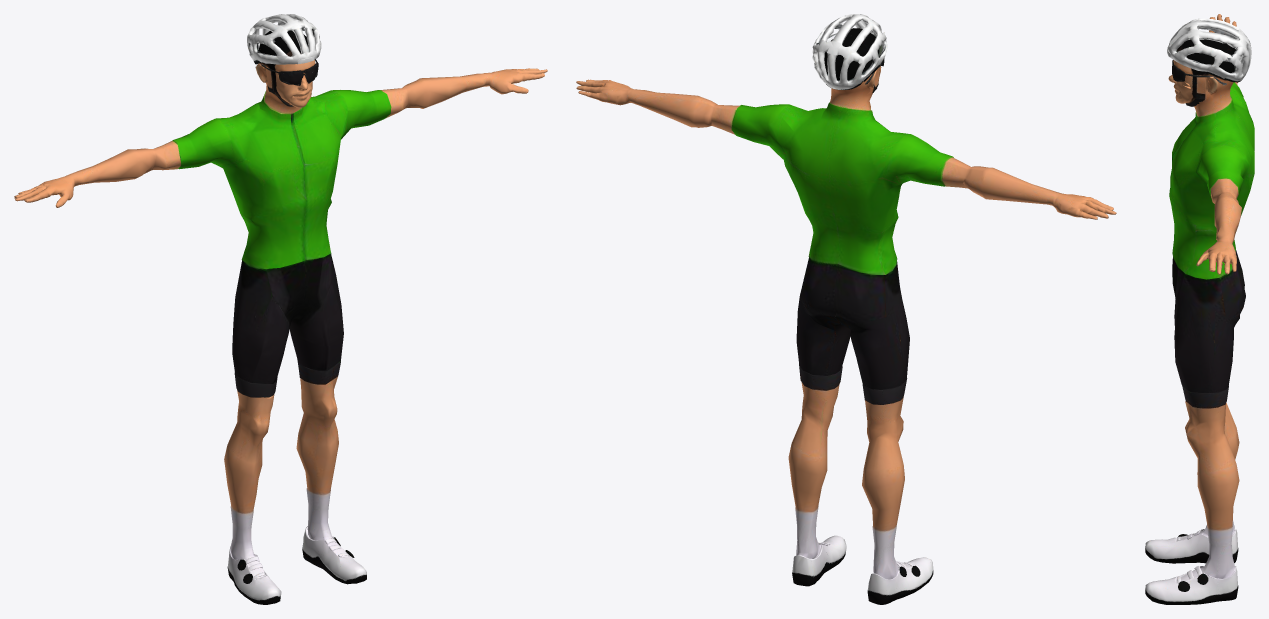
Rendered from cyclist.glb.
3 renders of one model, left to right at view 1: azimuth 30°, elevation 25°; view 2: azimuth 150°, elevation 25°; view 3: azimuth 270°, elevation 25°, orthographic.
Visible parts, largest first — view 1: geometry_0; view 2: geometry_0; view 3: geometry_0.
Part boxes in pixels (left/top/right/bottom): geometry_0: left=14, top=14, right=547, bottom=604; geometry_0: left=576, top=14, right=1116, bottom=604; geometry_0: left=1145, top=14, right=1254, bottom=604.
Bounding box in the file's own units: 0.9482 × 0.9492 × 0.1689.
Materials: 1 (1 with a texture image).
